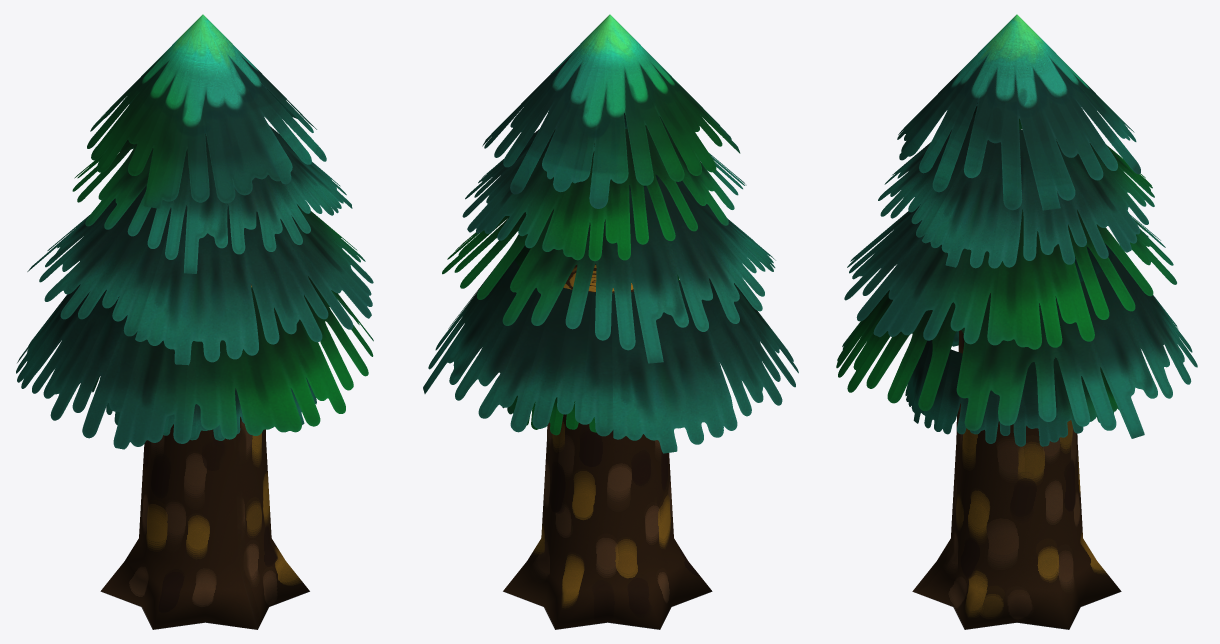
Rendered from FINE.glb.
3 renders of one model, left to right at view 1: azimuth 30°, elevation 25°; view 2: azimuth 150°, elevation 25°; view 3: azimuth 270°, elevation 25°, orthographic.
Visible parts, largest first — view 1: Full Grow.003_7; view 2: Full Grow.003_7; view 3: Full Grow.003_7.
Part boxes in pixels (x1,y1,x2,y2): Full Grow.003_7: (16, 14, 373, 629); Full Grow.003_7: (423, 14, 798, 629); Full Grow.003_7: (836, 14, 1197, 629).
Size of the model in its own units: 2.19 by 3.69 by 2.19.
1 material, 1 textured.
